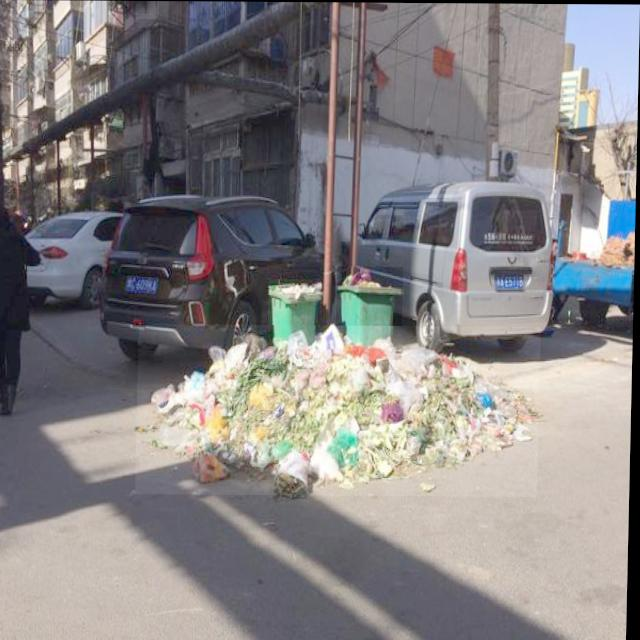garbage: (137, 324, 542, 496)
overflow: (338, 266, 405, 342), (270, 279, 321, 342)
